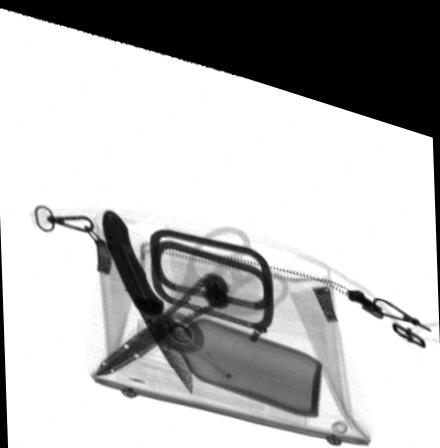Knife: (100, 199, 192, 380)
Scissors: (93, 212, 290, 369)
